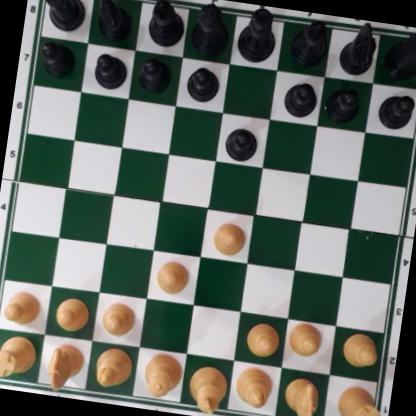black-bishop: (287, 15, 331, 68), (145, 0, 188, 48)
black-king: (236, 6, 280, 64)
black-knight: (337, 19, 378, 78), (93, 0, 135, 44)
black-pawn: (376, 90, 416, 133), (37, 39, 77, 78), (222, 122, 261, 162), (185, 63, 222, 104), (325, 83, 362, 124), (136, 55, 174, 94), (92, 50, 128, 91), (282, 81, 318, 119)
black-queen: (189, 1, 234, 58)
black-rook: (381, 29, 416, 82), (38, 0, 90, 33)
white-bishop: (233, 363, 274, 411), (93, 344, 133, 389)
white-king: (186, 361, 227, 416)
white-knight: (46, 340, 85, 393), (281, 373, 322, 416)
white-pawn: (0, 288, 43, 327), (99, 298, 138, 338), (340, 331, 381, 369), (154, 256, 192, 296), (210, 219, 248, 257), (53, 294, 90, 332), (243, 320, 280, 357), (287, 321, 323, 359)
white-queen: (138, 349, 187, 399)
white-rook: (0, 332, 39, 381), (333, 383, 385, 416)
